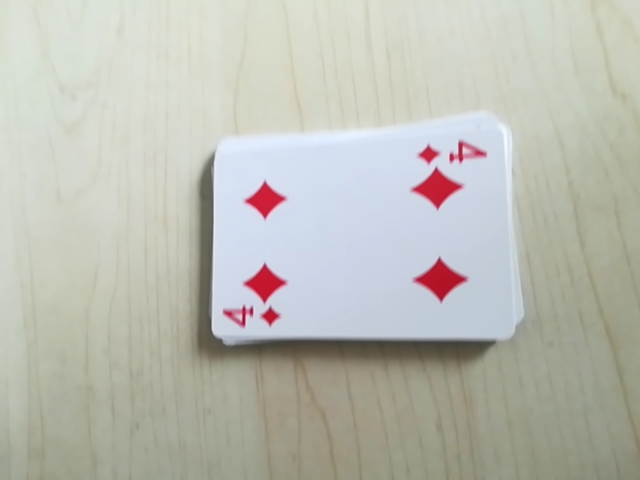fk 4: (414, 128, 496, 172), (216, 300, 286, 336)
